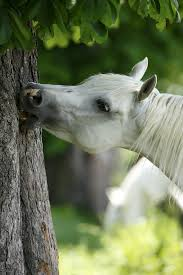Horse: (20, 61, 183, 206)
